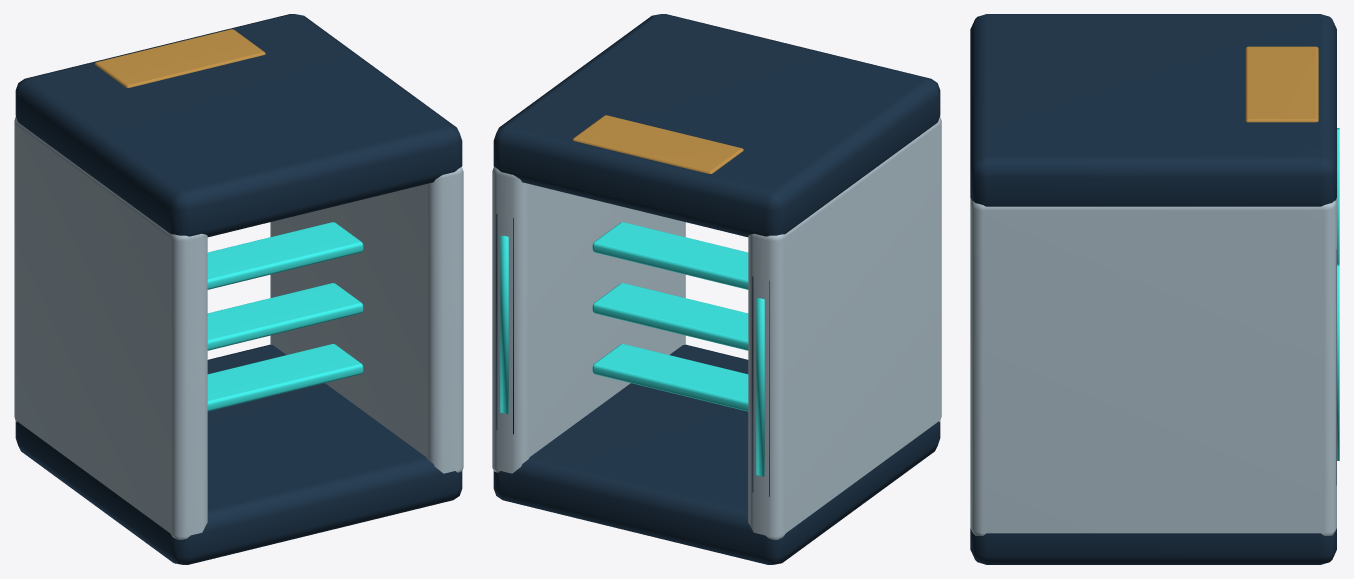
Rendered from gate.runtime.gltf.
3 views of the same model, side by side, from view 1: azimuth 30°, elevation 25°; view 2: azimuth 150°, elevation 25°; view 3: azimuth 270°, elevation 25° (orthographic). The views are drawn at different scales.
Visible parts, largest first — view 1: Gate solid sill; view 2: Gate solid sill; view 3: Gate solid sill.
Part boxes in pixels (x1=…): Gate solid sill: x1=14, y1=14, x2=463, y2=564; Gate solid sill: x1=492, y1=14, x2=941, y2=564; Gate solid sill: x1=970, y1=14, x2=1339, y2=564.
Bounding box in the file's own units: 1 × 1.24 × 1.01.
